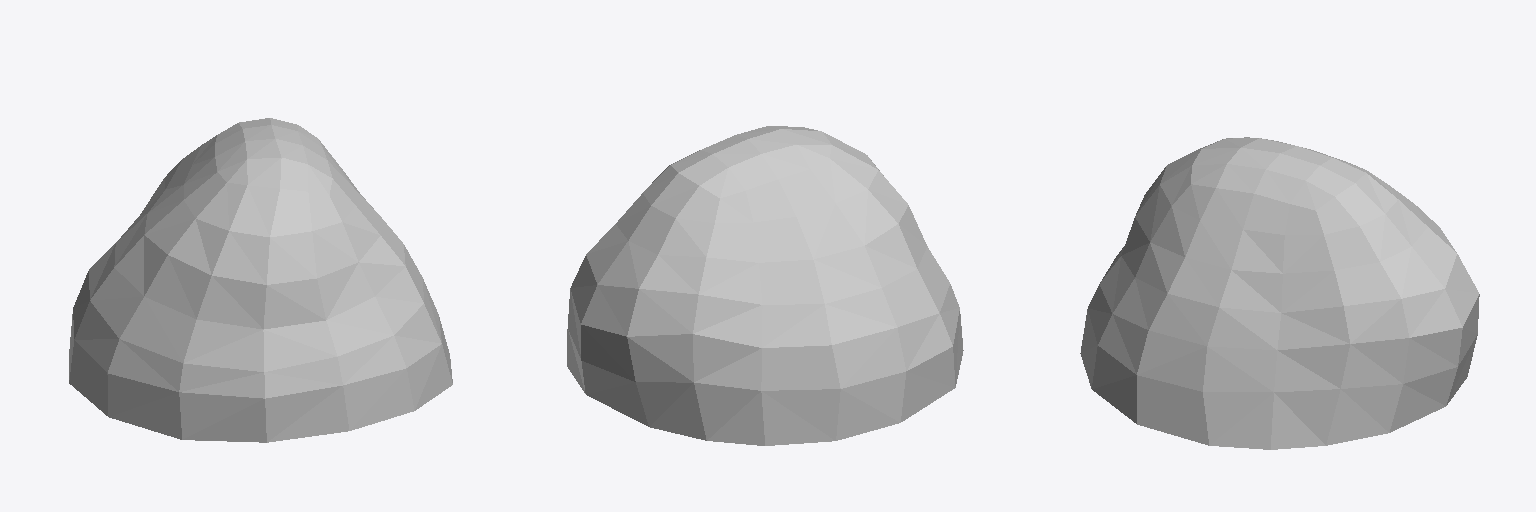
File: stone20.obj
3 renders of one model, left to right at view 1: azimuth 30°, elevation 25°; view 2: azimuth 150°, elevation 25°; view 3: azimuth 270°, elevation 25°, orthographic.
Parts seen in each view (by area): view 1: stone2_Group1.001; view 2: stone2_Group1.001; view 3: stone2_Group1.001.
Boxes of the visible parts, <box> form: stone2_Group1.001: <box>69,118,452,442</box>; stone2_Group1.001: <box>567,126,963,445</box>; stone2_Group1.001: <box>1080,137,1479,449</box>.
Size of the model in its own units: 3.11 by 1.99 by 3.21.